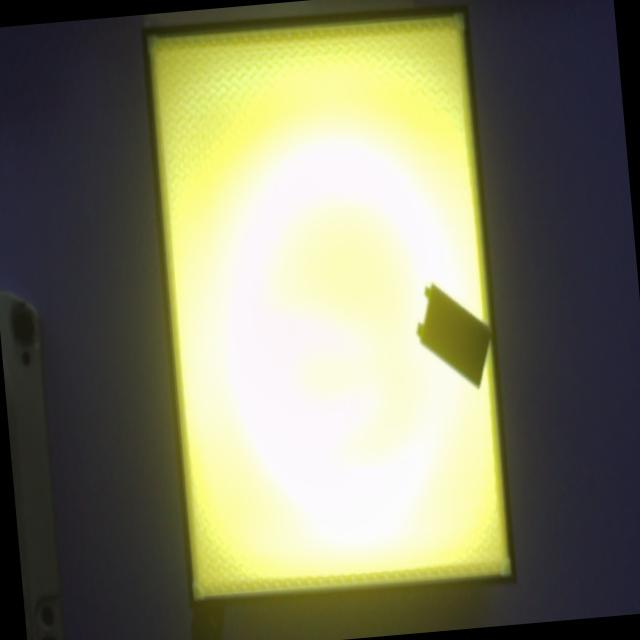bateria: (415, 284, 492, 397)
mesa: (141, 4, 516, 610)
